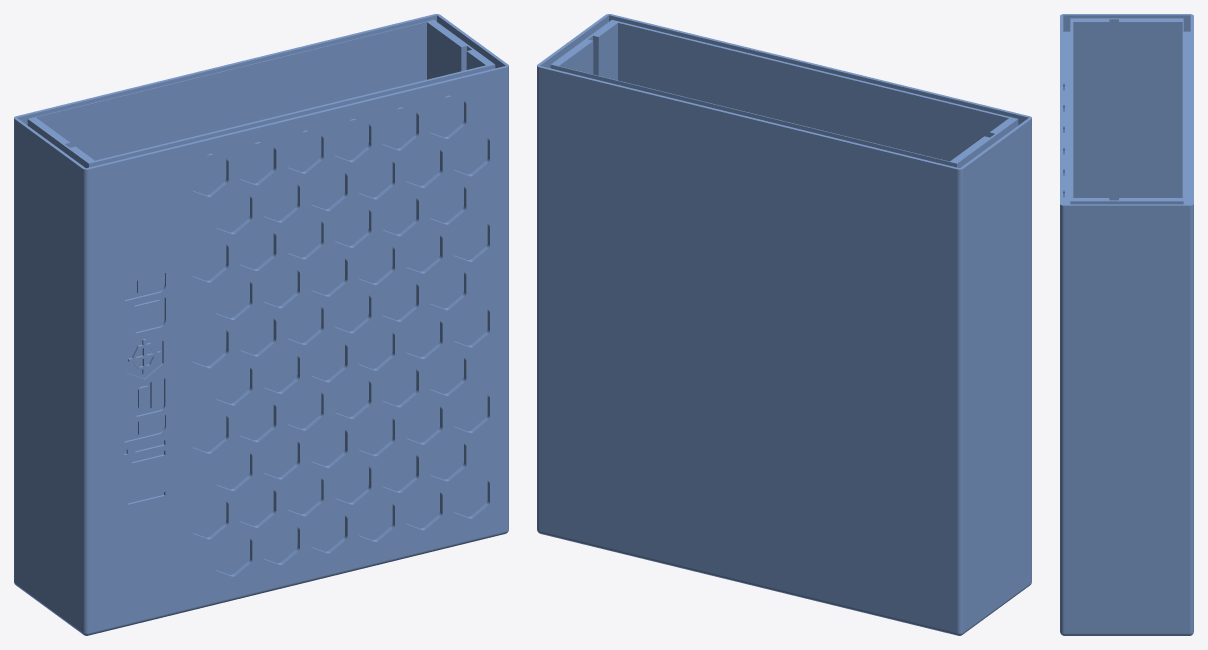
3 renders of one model, left to right at view 1: azimuth 30°, elevation 25°; view 2: azimuth 150°, elevation 25°; view 3: azimuth 270°, elevation 25°, orthographic. The views are drawn at different scales.
Parts seen in each view (by area): view 1: Part 2; view 2: Part 2; view 3: Part 2.
Boxes of the visible parts, left/top/right/bottom form: Part 2: left=14, top=14, right=508, bottom=635; Part 2: left=537, top=14, right=1031, bottom=635; Part 2: left=1060, top=14, right=1193, bottom=635.
Bounding box in the file's own units: 0.1 × 0.105 × 0.0295.
